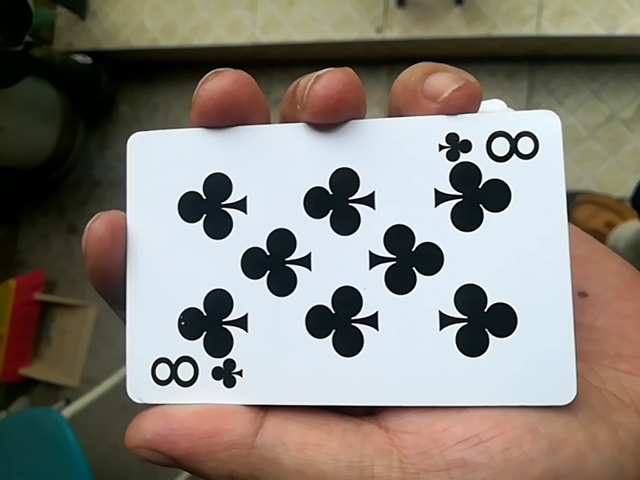mh 8: (112, 112, 568, 429)
